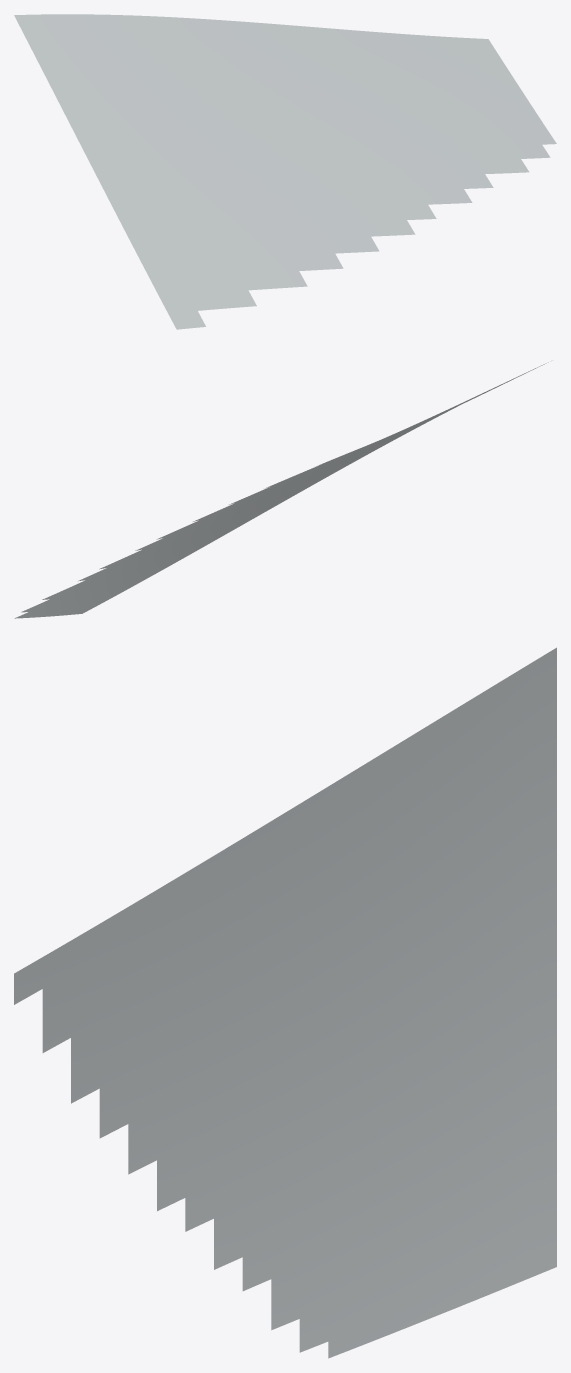
File: alpine-9-9.glb
3 renders of one model, top to bottom at view 1: azimuth 30°, elevation 25°; view 2: azimuth 210°, elevation 25°; view 3: azimuth 270°, elevation 25°, orthographic. The views are drawn at different scales.
Visible parts, largest first — view 1: alpine-9-9; view 2: alpine-9-9; view 3: alpine-9-9.
Boxes of the visible parts, <box> form: alpine-9-9: <box>14,14,556,329</box>; alpine-9-9: <box>14,362,548,618</box>; alpine-9-9: <box>14,647,556,1358</box>.
Size of the model in its own units: 256 by 104 by 152.
Materials: 1 (1 with a texture image).
